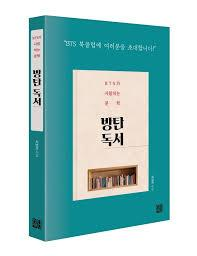book: (28, 14, 170, 241)
